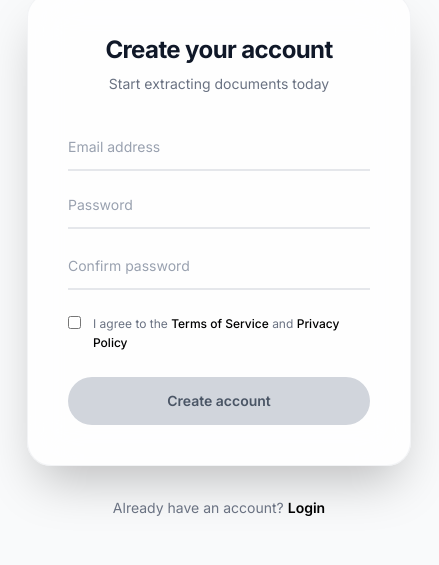
Test case: signup page › requires terms acceptance before enabling submit
In the field labelled "Email address": (219, 154) [68,136,370,170], type "ada@example.com"
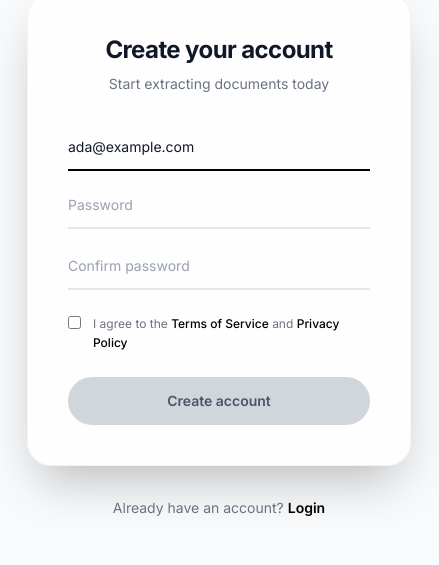
In the password field labelled "Password": (219, 212) [68,194,370,228], type "Secret123"
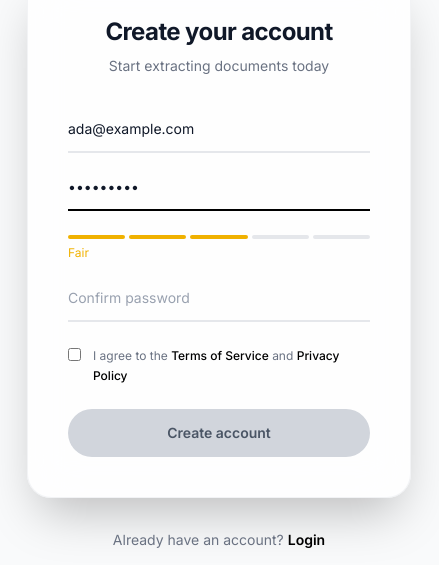
In the password field labelled "Confirm password": (219, 305) [68,288,370,322], type "Secret123"
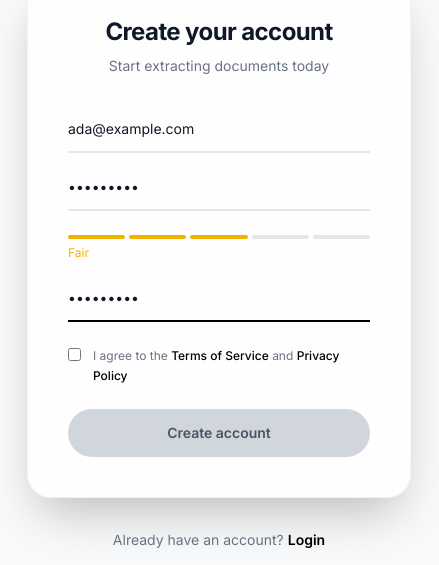
Expected: the button "Create account" is disabled, [68,409,370,457]
Click the checkbox: (74, 354) [68,348,81,361]
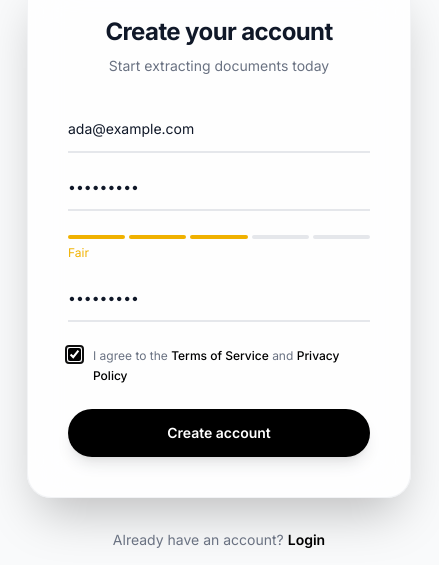
Now the button "Create account" is enabled, box [68,409,370,457]
